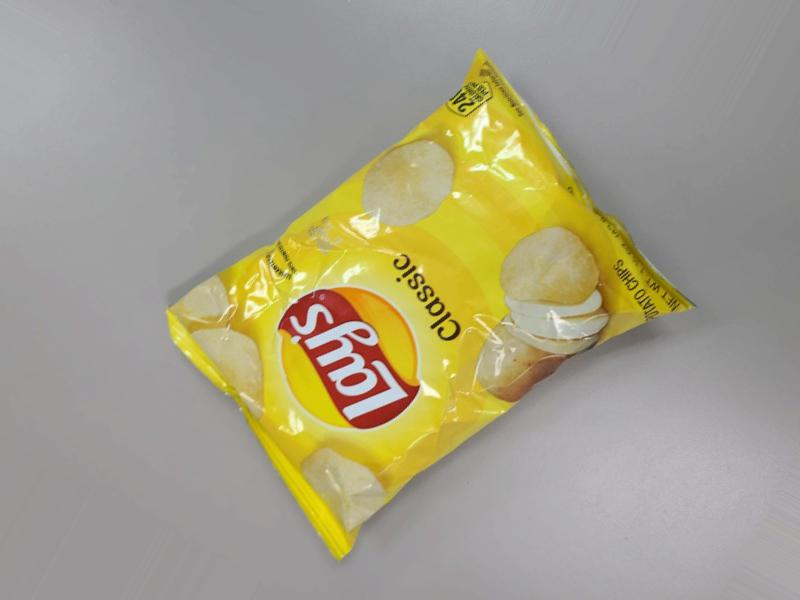lays: (229, 17, 699, 600)
